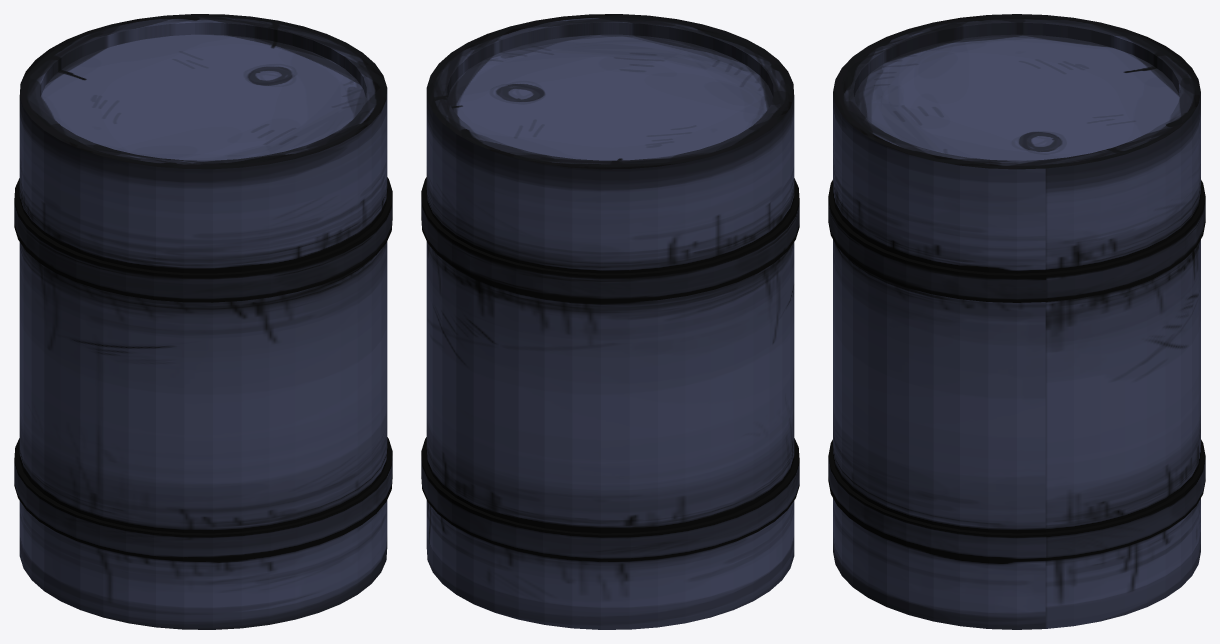
Rendered from Barrel_Asset.fbx.
The picture shows the model from 3 angles, left to right: view 1: azimuth 30°, elevation 25°; view 2: azimuth 150°, elevation 25°; view 3: azimuth 270°, elevation 25°; orthographic projection.
Visible parts, largest first — view 1: Barrel; view 2: Barrel; view 3: Barrel.
Boxes of the visible parts, <box> form: Barrel: <box>14,14,392,629</box>; Barrel: <box>421,14,799,629</box>; Barrel: <box>828,14,1205,629</box>.
Size of the model in its own units: 0.0286 by 0.0383 by 0.0284.
1 material, 1 textured.
